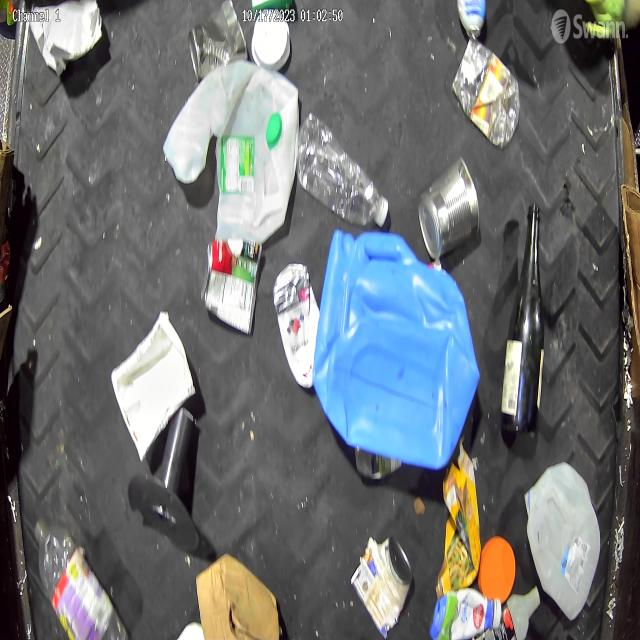can: (419, 158, 482, 265), (351, 536, 411, 638), (200, 239, 262, 334), (187, 1, 247, 86)
milk_jug: (163, 61, 300, 244), (522, 461, 600, 617)
non_white_jug: (311, 234, 481, 467), (273, 264, 320, 388)
plastic_bottle: (34, 513, 124, 640), (298, 112, 390, 228)
